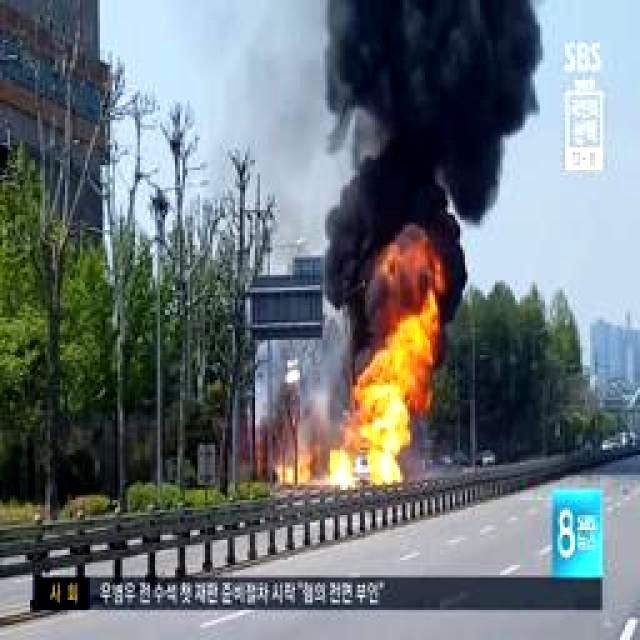fire: (352, 372, 401, 486), (392, 301, 436, 379), (330, 440, 350, 490), (276, 460, 312, 484), (402, 382, 426, 418)
